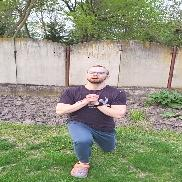lunges: (46, 53, 133, 172)
